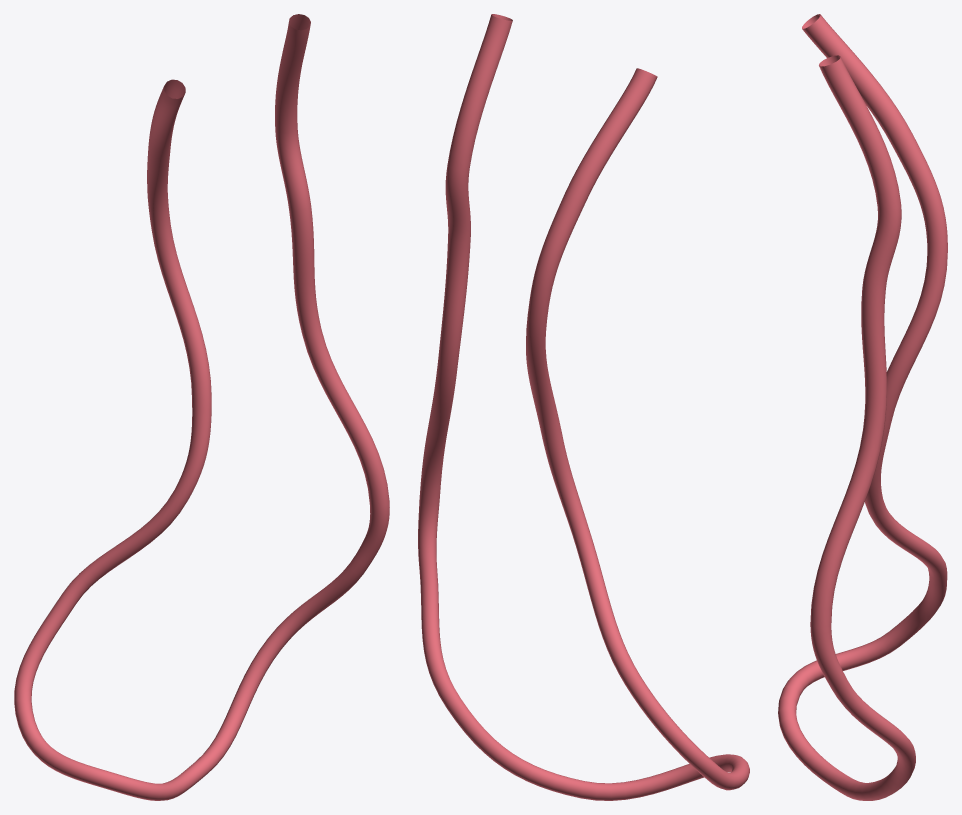
3 views of the same model, side by side, from view 1: azimuth 30°, elevation 25°; view 2: azimuth 150°, elevation 25°; view 3: azimuth 270°, elevation 25° (orthographic). The views are drawn at different scales.
Visible parts, largest first — view 1: ZA_2d7bd9bc472269a6; view 2: ZA_2d7bd9bc472269a6; view 3: ZA_2d7bd9bc472269a6.
Part boxes in pixels (bbox=[...]): ZA_2d7bd9bc472269a6: bbox=[14, 14, 389, 800]; ZA_2d7bd9bc472269a6: bbox=[418, 14, 749, 800]; ZA_2d7bd9bc472269a6: bbox=[778, 14, 947, 800].
Bounding box in the file's own units: 0.0309 × 0.0656 × 0.0128.
